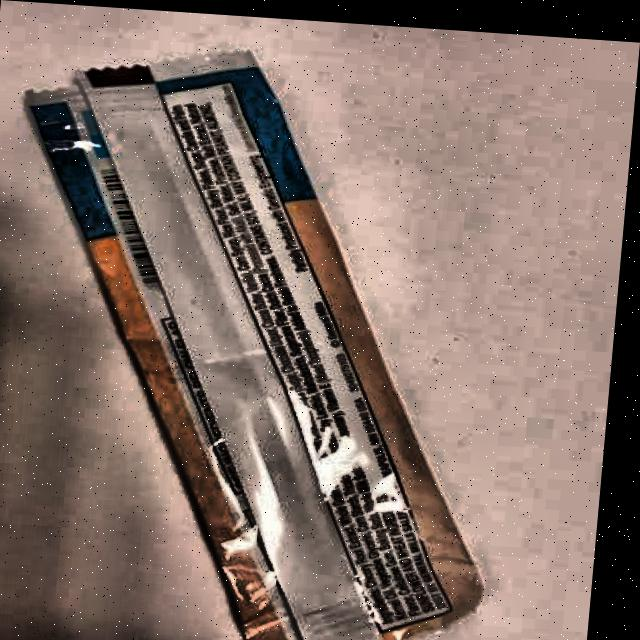plastic: (0, 45, 541, 640)
